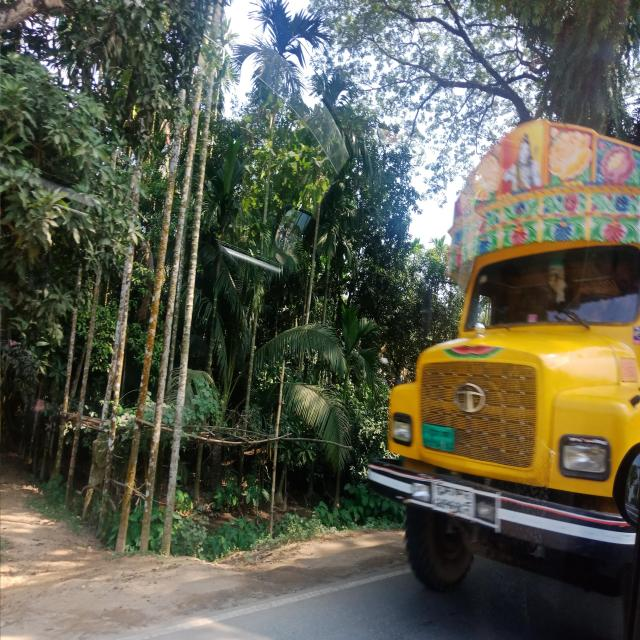truck: (373, 97, 640, 631)
